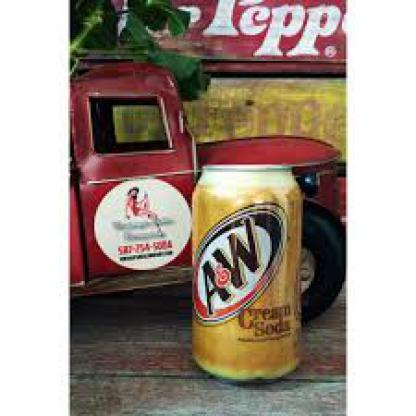METAL: (70, 67, 190, 279), (191, 163, 298, 385), (185, 0, 344, 74), (194, 140, 335, 161), (299, 161, 344, 214)
